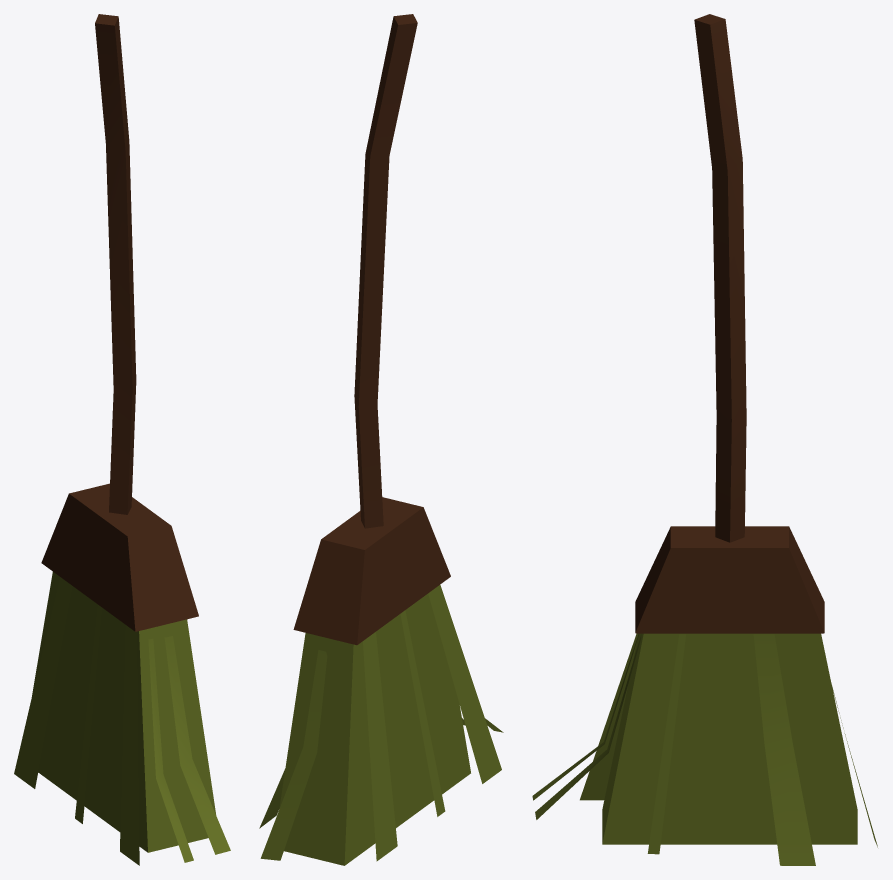
File: SM_Broom_01.fbx
The picture shows the model from 3 angles, left to right: view 1: azimuth 30°, elevation 25°; view 2: azimuth 150°, elevation 25°; view 3: azimuth 270°, elevation 25°; orthographic projection.
Visible parts, largest first — view 1: broom; view 2: broom; view 3: broom.
Part boxes in pixels (x1,y1,x2,y2): broom: (14, 14, 230, 865); broom: (259, 14, 503, 865); broom: (532, 14, 877, 865).
Bounding box in the file's own units: 35.11 × 82.81 × 211.
